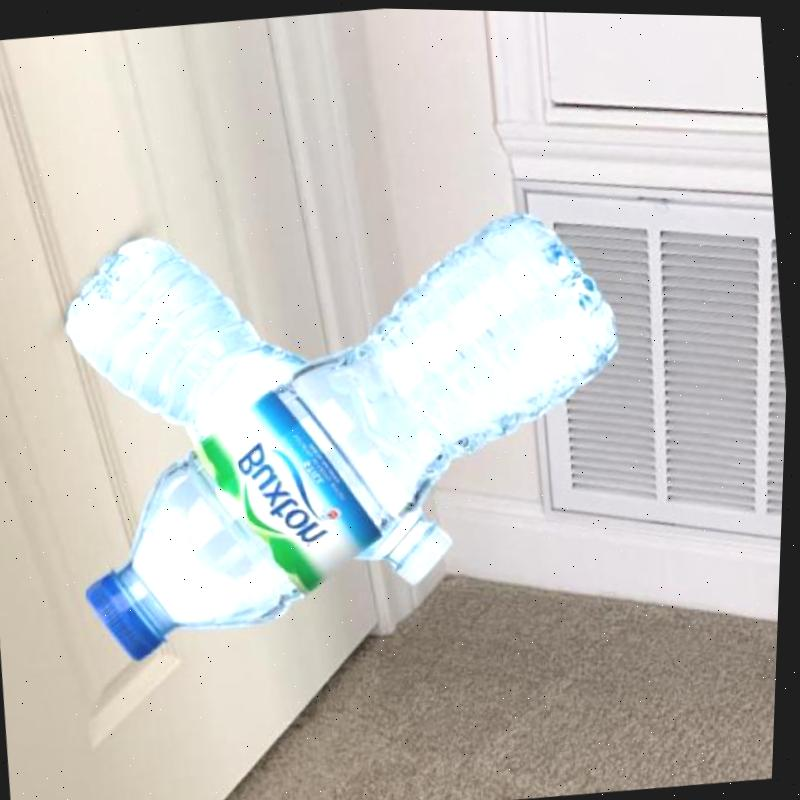botella: (51, 189, 654, 674), (49, 210, 472, 616)
